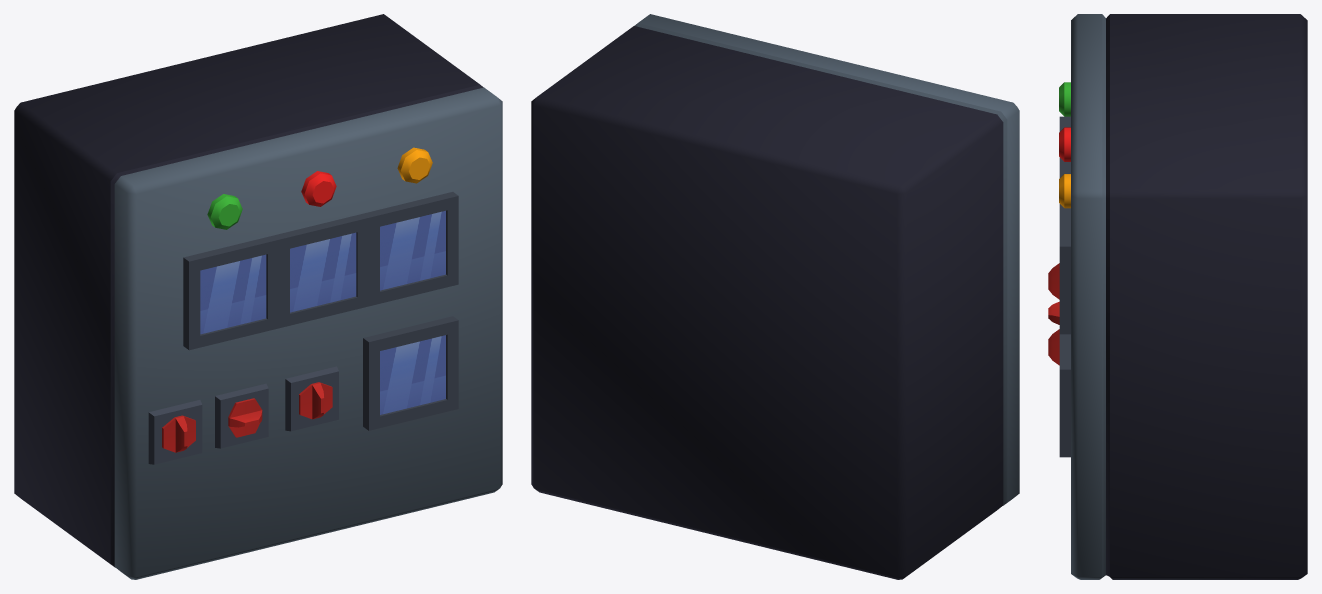
The model's file is ElectricBox_3_D_2.fbx.
3 views of the same model, side by side, from view 1: azimuth 30°, elevation 25°; view 2: azimuth 150°, elevation 25°; view 3: azimuth 270°, elevation 25° (orthographic).
Visible parts, largest first — view 1: ElectricBox_3_D_2; view 2: ElectricBox_3_D_2; view 3: ElectricBox_3_D_2.
Boxes of the visible parts, bbox=[...] form: ElectricBox_3_D_2: bbox=[14, 14, 502, 579]; ElectricBox_3_D_2: bbox=[531, 14, 1019, 579]; ElectricBox_3_D_2: bbox=[1048, 14, 1307, 579].
Bounding box in the file's own units: 102 × 102 × 61.6.
